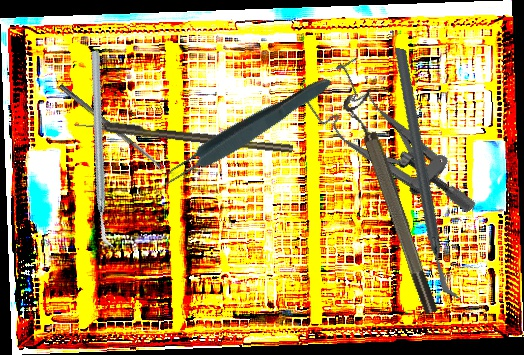Chopper: (343, 47, 512, 300), (27, 49, 179, 252)
Fixation Ring: (339, 88, 443, 320)
Hook Surgical: (73, 117, 294, 155)
Speculum: (298, 44, 480, 253)
Surgical Spoon: (58, 83, 166, 173)
Tissue Forceps: (152, 69, 337, 194)
